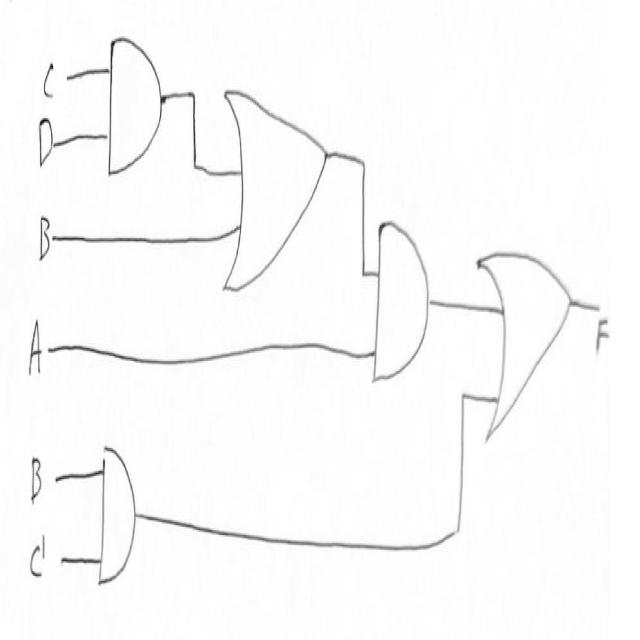AND: (371, 195, 438, 423), (107, 20, 170, 196), (96, 425, 143, 606)
OR: (218, 59, 336, 302), (474, 192, 574, 466)
